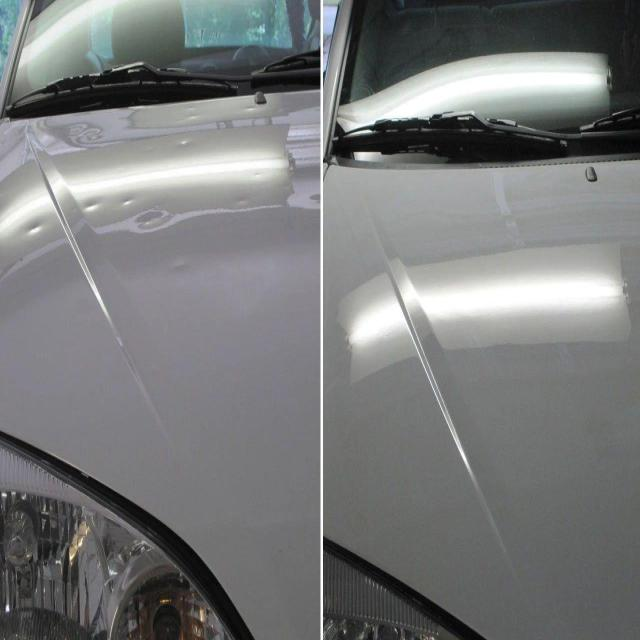dent: (132, 202, 174, 232), (65, 122, 105, 145), (26, 218, 46, 237), (82, 198, 104, 214), (174, 260, 190, 274), (121, 198, 135, 206), (180, 139, 190, 148), (245, 105, 257, 111), (187, 114, 197, 120), (238, 198, 246, 205), (254, 171, 260, 178), (188, 106, 195, 110)
